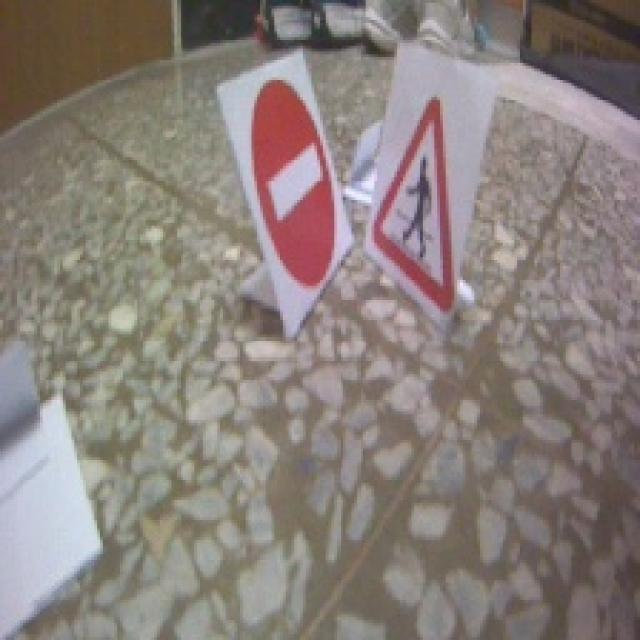DoNotEnterSign: (253, 76, 337, 292)
